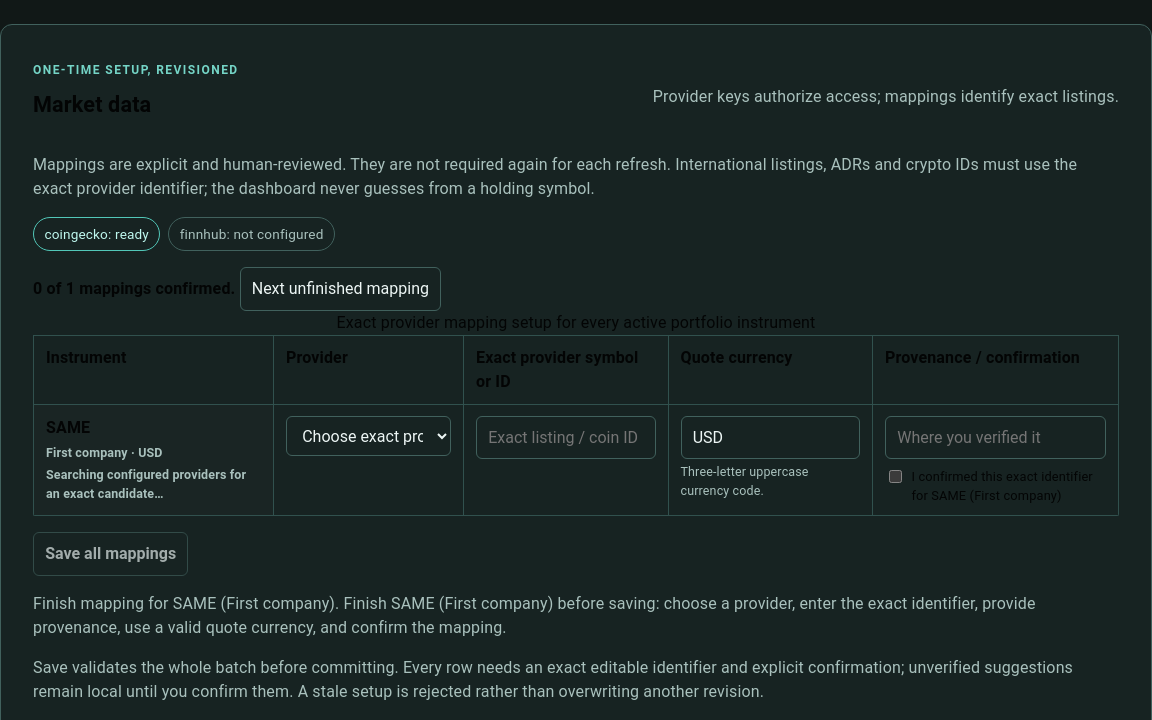
it: MarketDataPanel › blocks a mapping with invalid quote currency US without a save request
Select "coingecko" in the dropdown at coordinates (368, 436), box [286,416,451,456]
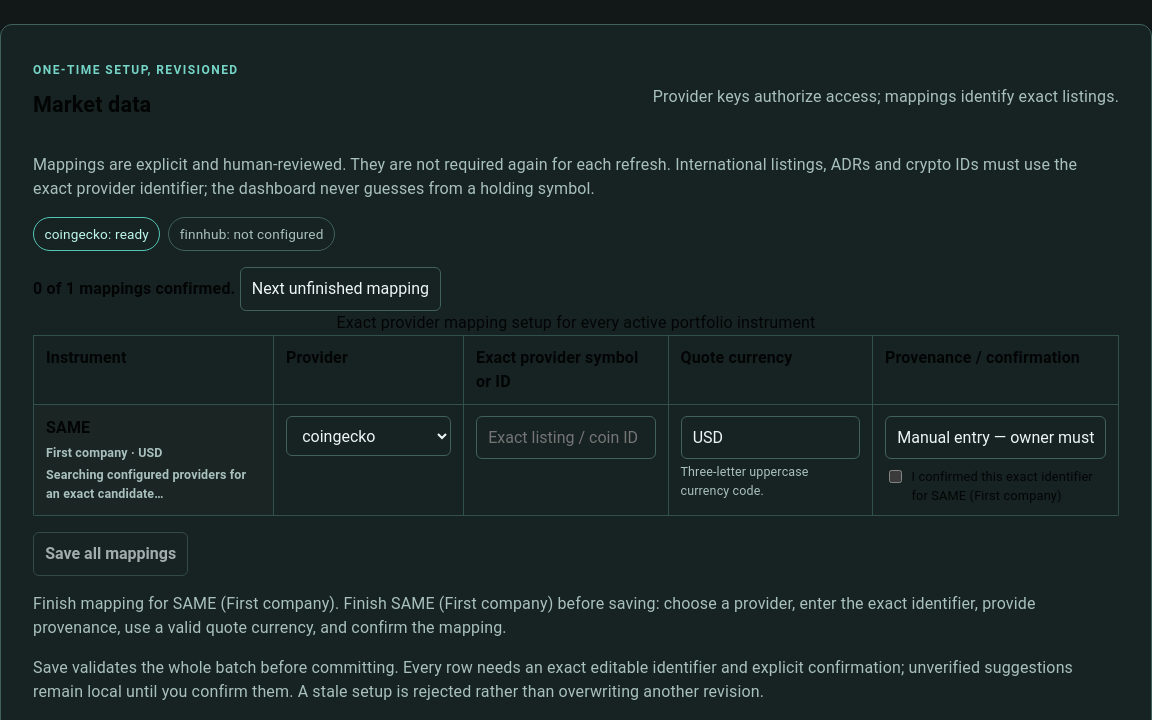
Type "coin-0" into the field with placeholder "Exact listing / coin ID" at coordinates (566, 438), box [476,416,656,459]
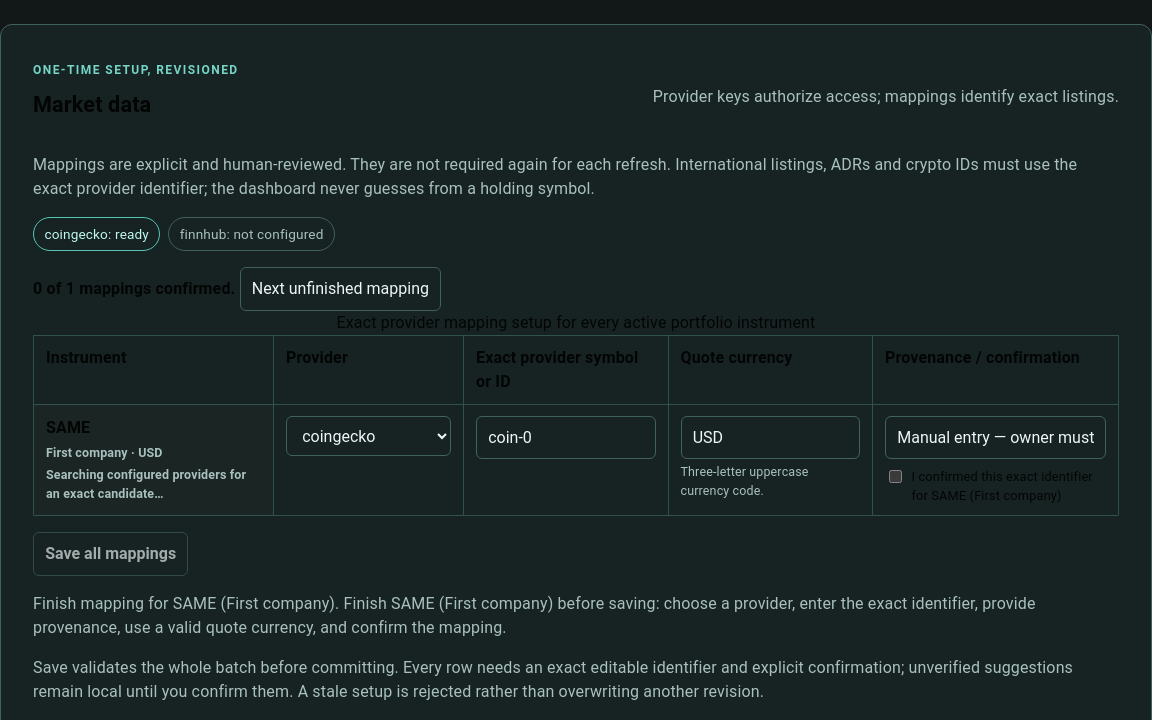
Replace the text in the field with placeholder "Where you verified it" with "provider listing" at coordinates (996, 438), box [885,416,1106,459]
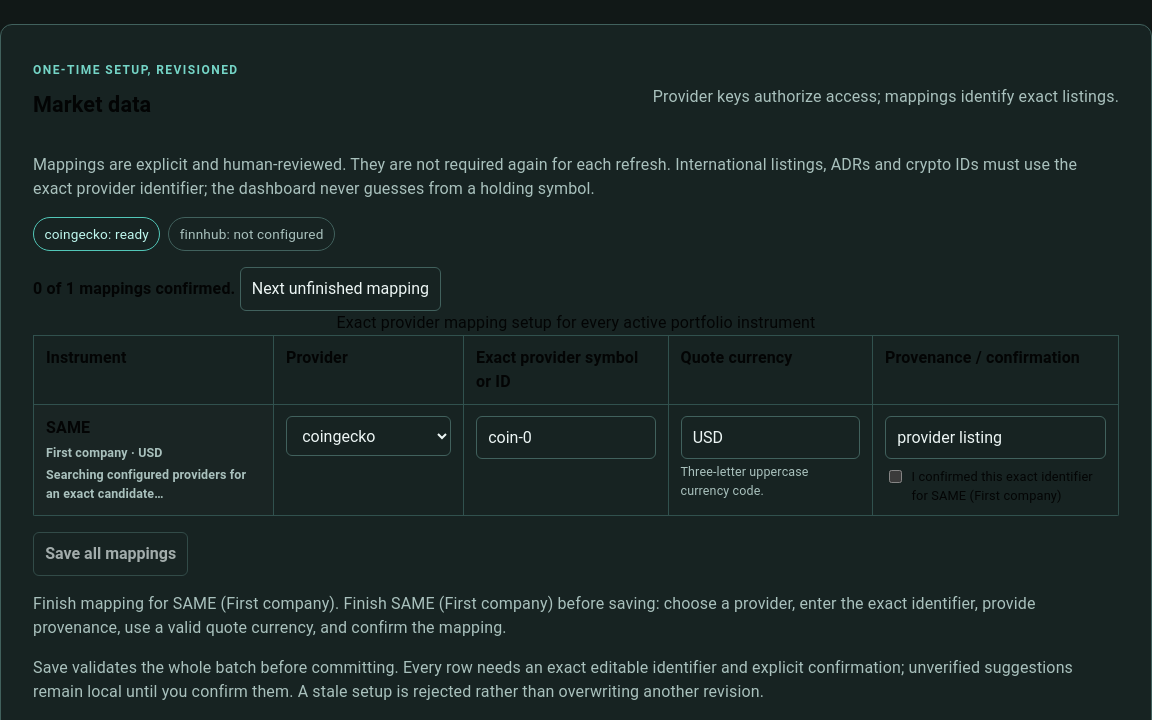
Click the checkbox at coordinates (896, 476), box [889,470,902,482]
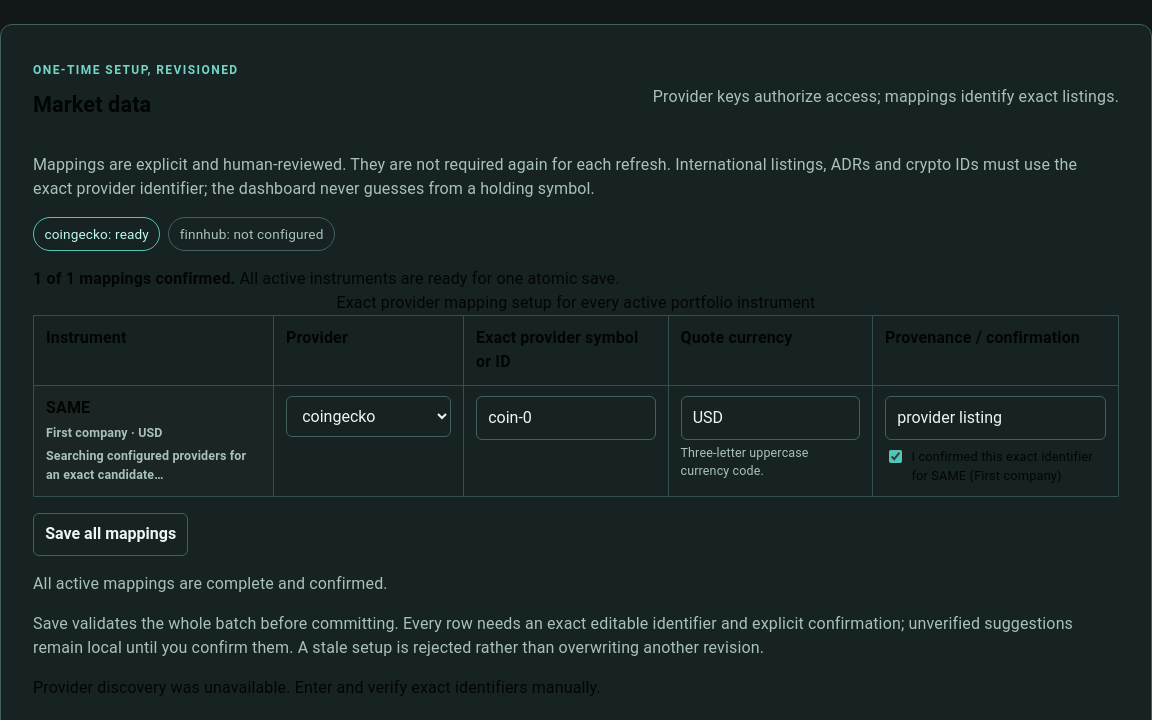
Replace the text in the field named "Quote currency for SAME (First company)" with "US" at coordinates (770, 418), box [680,396,860,440]
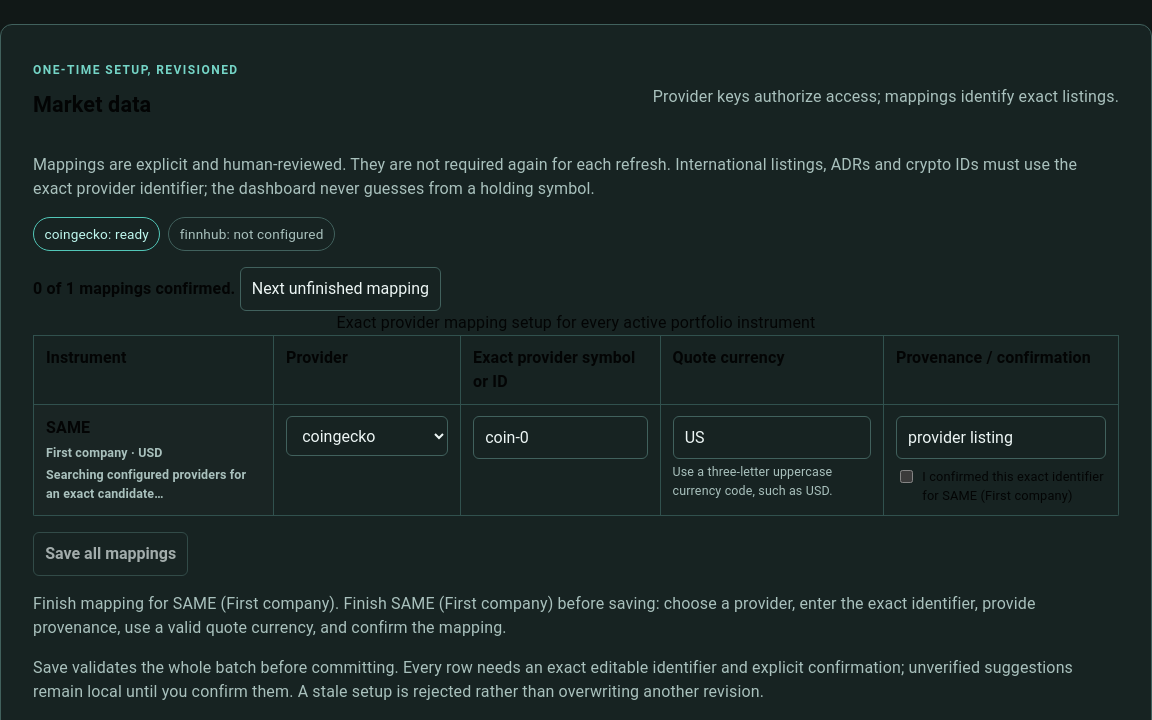
Check: the text "Use a three-letter uppercase currency code, such as USD." is shown, box [672,464,833,498]
Check: the button "Save all mappings" is disabled, box [33,532,188,576]
